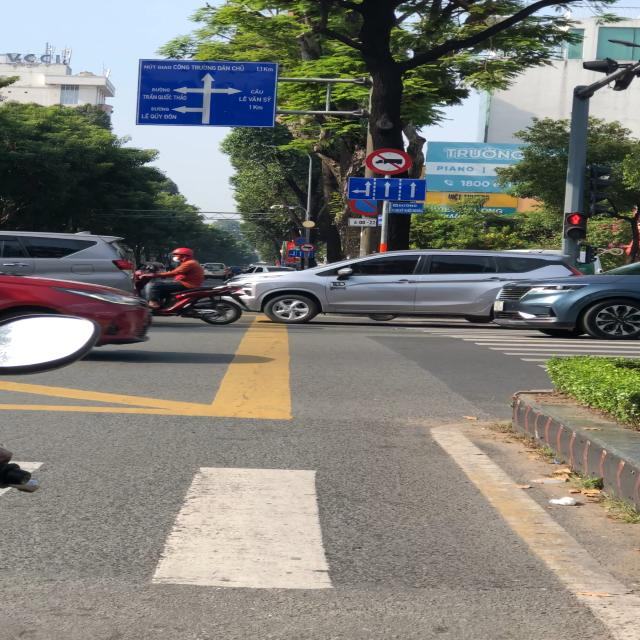Bien bao cam xe so-mi ro-mooc: (362, 146, 416, 177), (299, 241, 317, 253)
